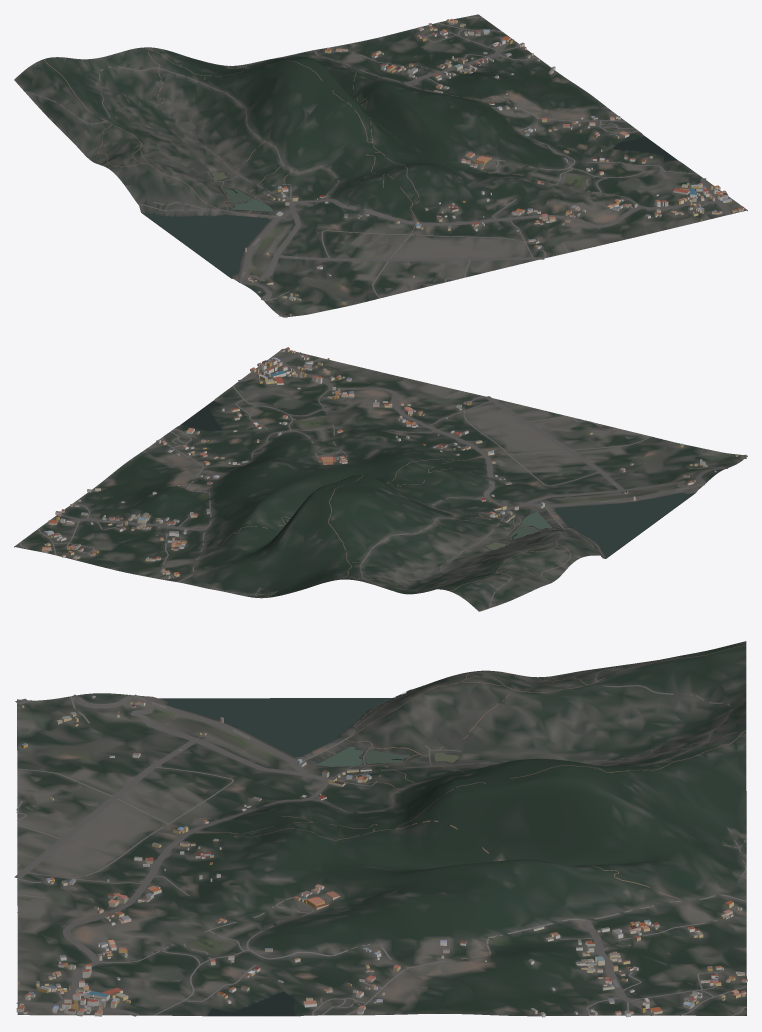
3 renders of one model, top to bottom at view 1: azimuth 30°, elevation 25°; view 2: azimuth 150°, elevation 25°; view 3: azimuth 270°, elevation 25°, orthographic. The views are drawn at different scales.
Visible parts, largest first — view 1: ground, roads, buildings, water; view 2: ground, roads, buildings, water; view 3: ground, roads, buildings, water.
Part boxes in pixels (<box>): ground: <box>14,14,747,317</box>; roads: <box>24,16,731,317</box>; buildings: <box>245,18,744,315</box>; water: <box>142,136,676,277</box>; ground: <box>14,349,747,611</box>; roads: <box>19,352,746,608</box>; buildings: <box>42,347,738,578</box>; water: <box>181,401,694,557</box>; ground: <box>17,641,746,1016</box>; roads: <box>14,645,746,1016</box>; buildings: <box>16,695,747,1017</box>; water: <box>161,698,458,1015</box>.
Bounding box in the file's own units: 1409 × 184 × 1411.
